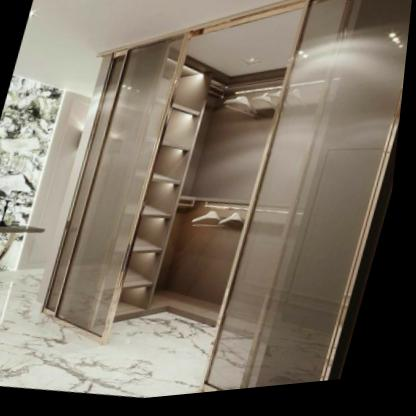Ceramic floor: (0, 266, 224, 402)
Transparent Closet: (26, 0, 413, 397)
